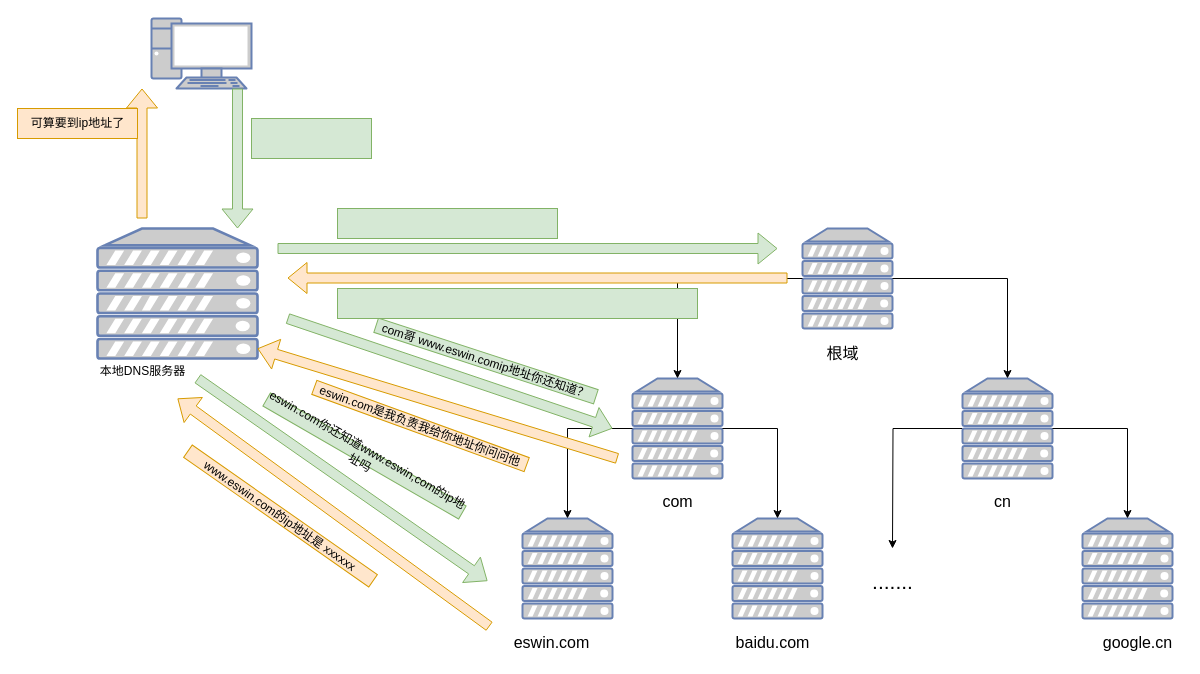
Some shapes in this 1200 by 674 pixel diagram are drawn without their labels. Here are the shapes that lost their labels. From the top down, the box of each, then its label:
(250, 118, 372, 158): www.eswin.com的 ip地址是啥啊
(336, 208, 558, 238): 跟域大哥指条路www.eswin.com是啥
(336, 288, 698, 318): 我知道你很急你先别急，com是我管的我给你他的IP，你问问他
